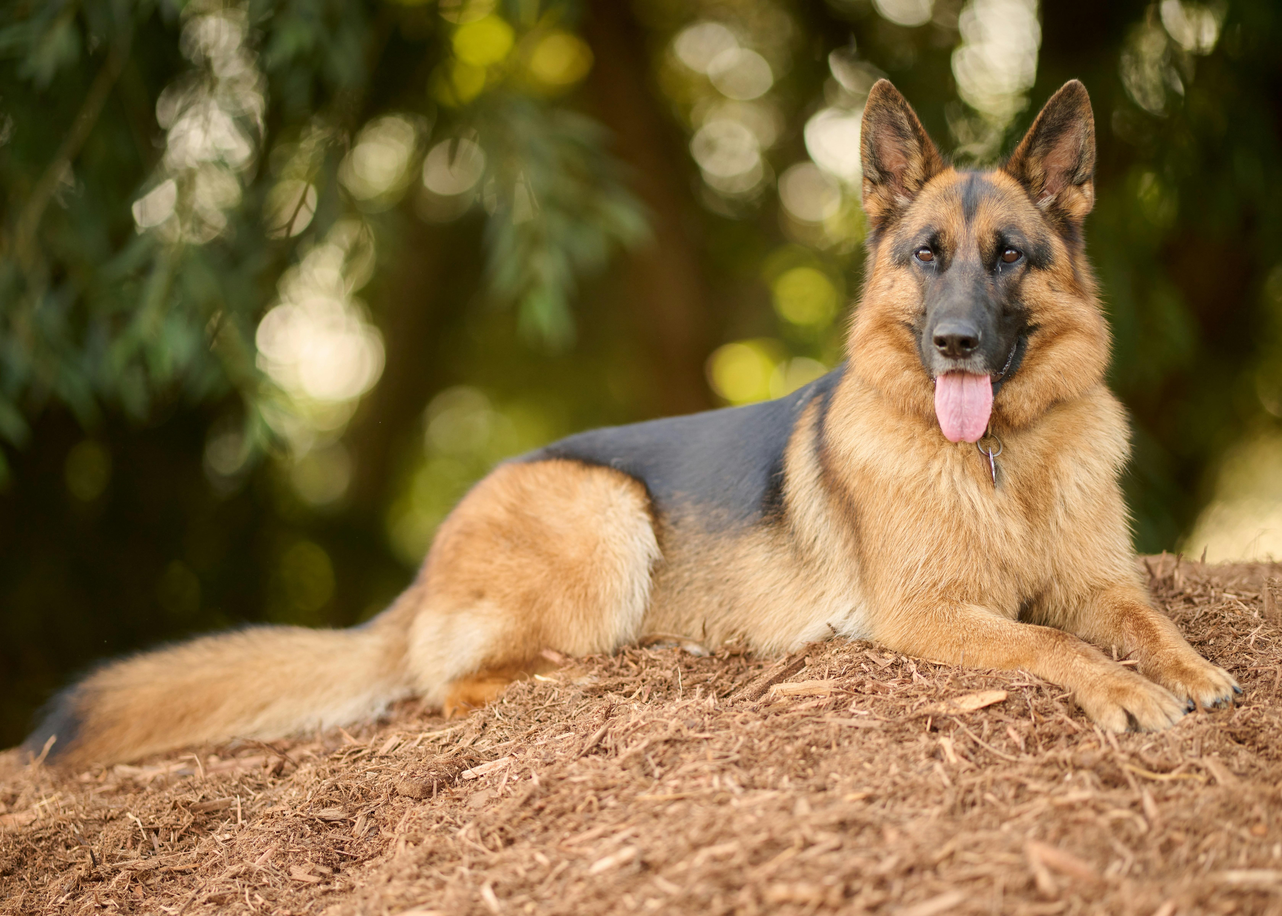german_shepherd: (811, 109, 1131, 441)
